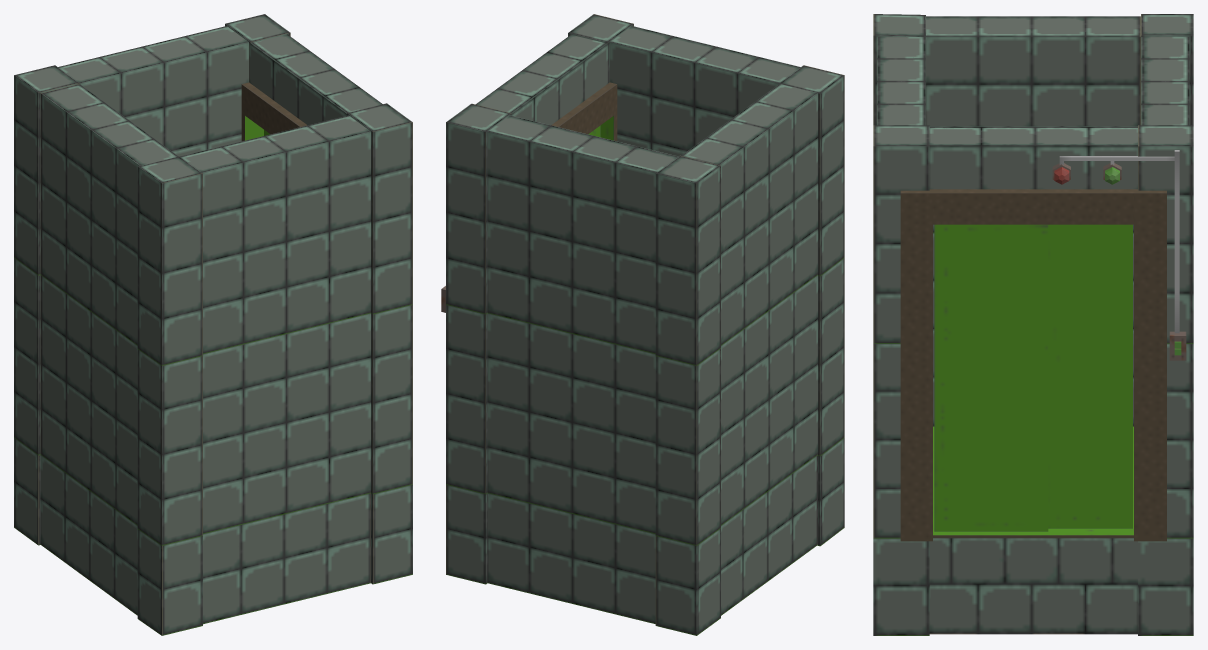
Rendered from obj_elevator_with_doors.fbx.
3 renders of one model, left to right at view 1: azimuth 30°, elevation 25°; view 2: azimuth 150°, elevation 25°; view 3: azimuth 270°, elevation 25°, orthographic. The views are drawn at different scales.
Parts seen in each view (by area): view 1: obj_elevator; view 2: obj_elevator; view 3: obj_elevator, obj_elevator_door2, obj_elevator_door1.
Boxes of the visible parts, x1,y1,x2,y2 form: obj_elevator: (14,14,412,635); obj_elevator: (441,14,844,635); obj_elevator: (873,14,1193,635); obj_elevator_door2: (934,224,1048,531); obj_elevator_door1: (1048,224,1132,528).
Bounding box in the file's own units: 151 × 252 × 149.
